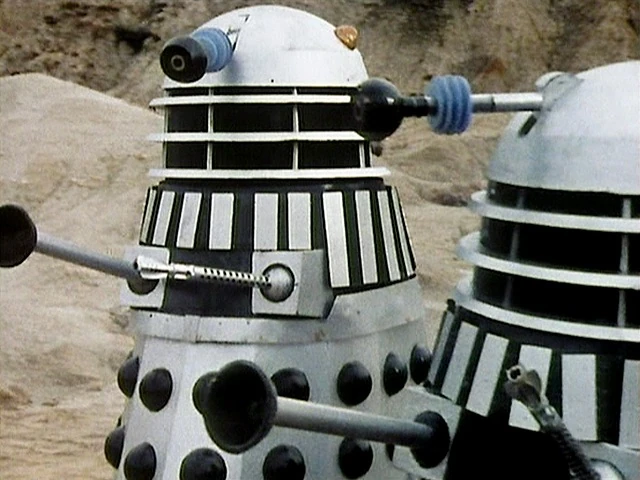Dalek: (102, 1, 433, 480), (436, 54, 640, 468)
